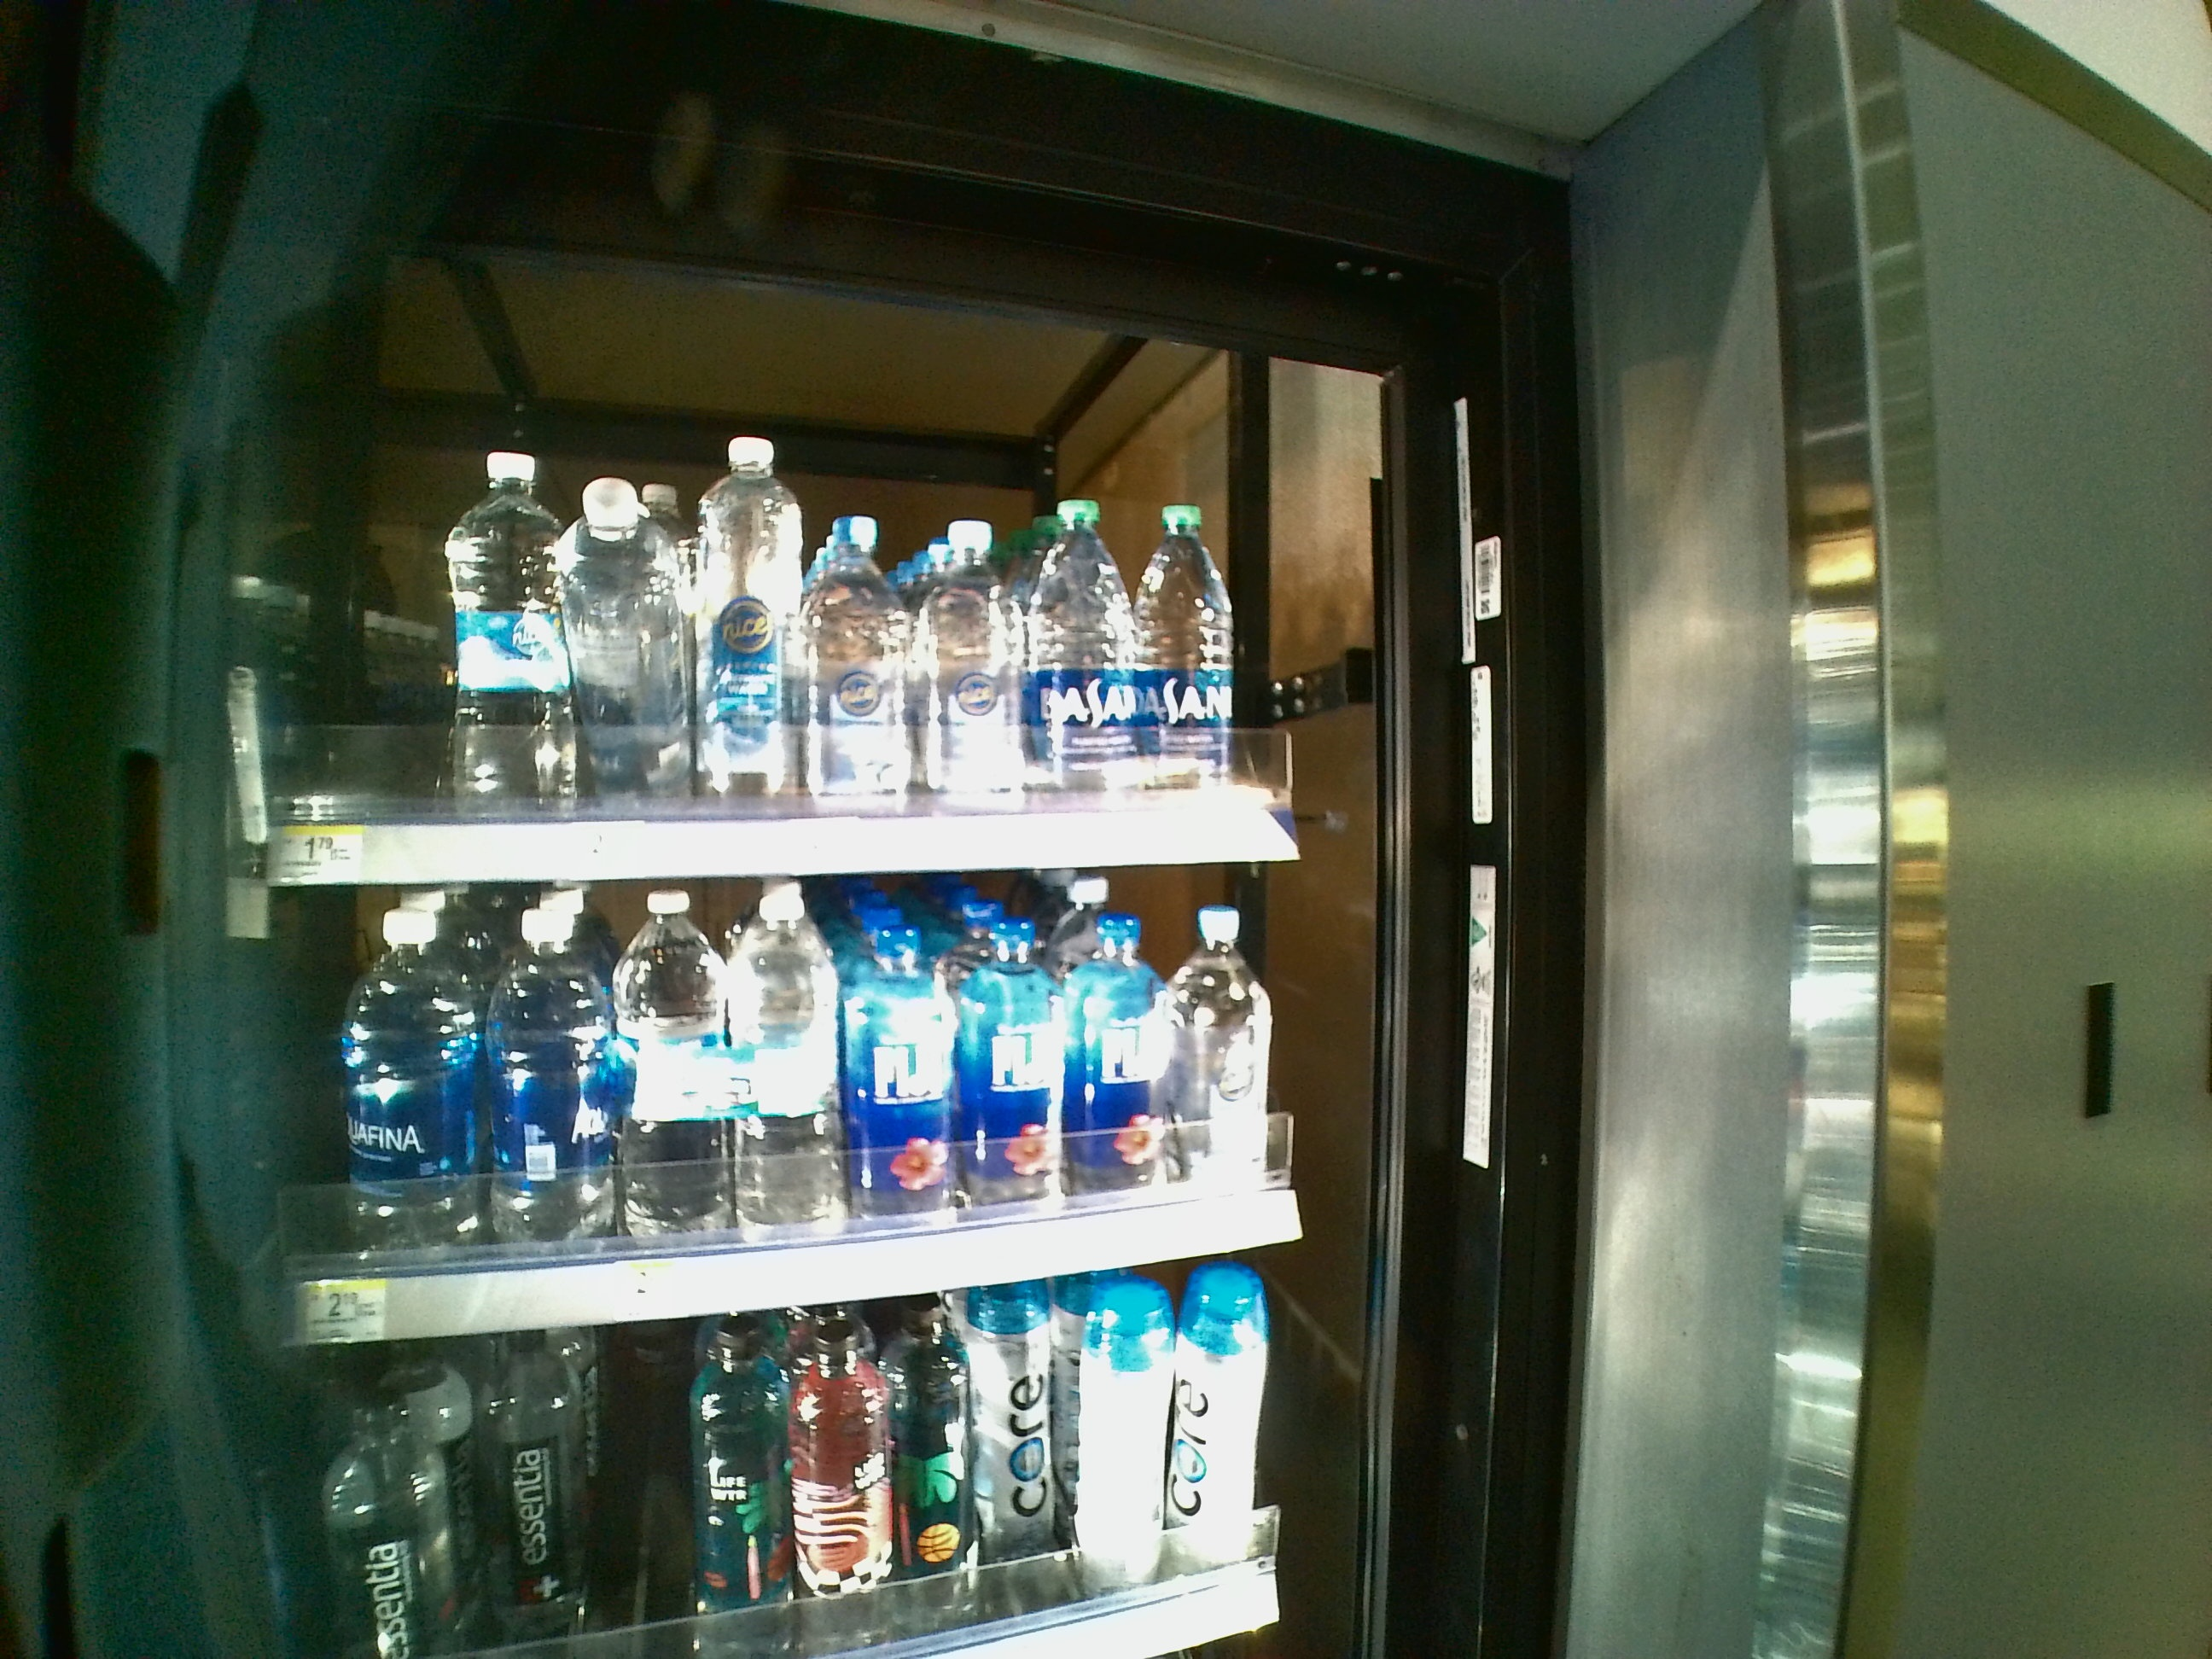shelf: (254, 361, 1334, 887), (251, 884, 1308, 1344)
